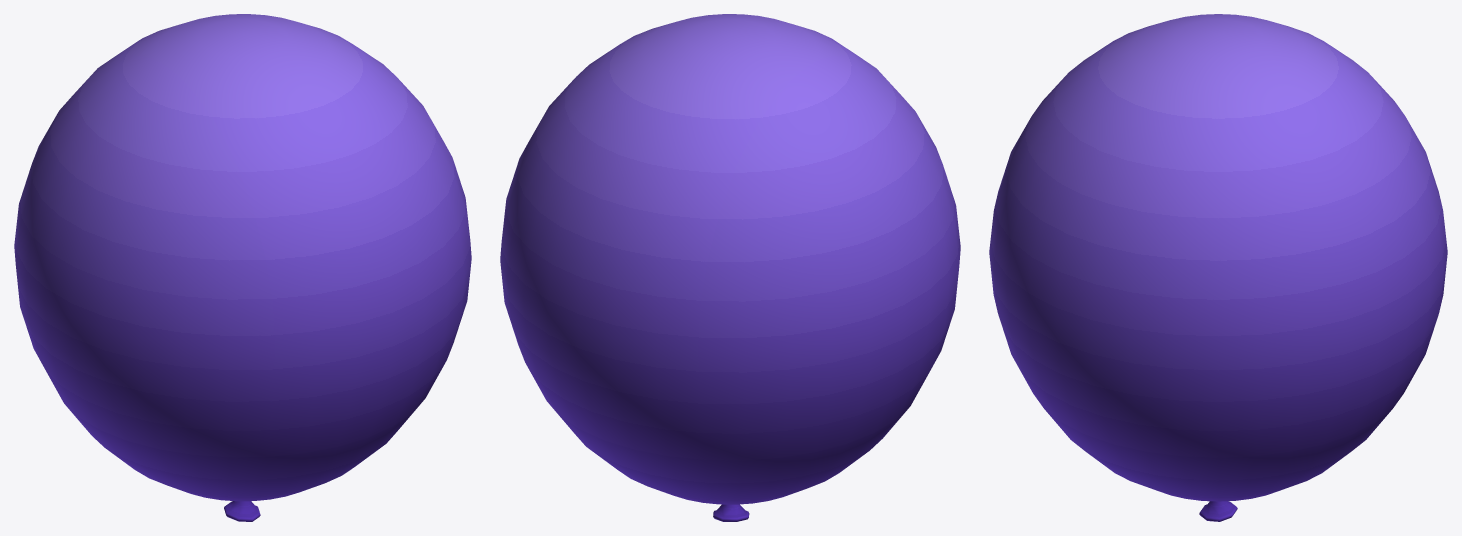
File: balloon_blue.fbx
3 views of the same model, side by side, from view 1: azimuth 30°, elevation 25°; view 2: azimuth 150°, elevation 25°; view 3: azimuth 270°, elevation 25° (orthographic).
Visible parts, largest first — view 1: balloon_blue, balloon_blue_t; view 2: balloon_blue, balloon_blue_t; view 3: balloon_blue, balloon_blue_t.
Boxes of the visible parts, bbox=[...] form: balloon_blue: bbox=[14, 14, 471, 501]; balloon_blue_t: bbox=[224, 501, 260, 521]; balloon_blue: bbox=[500, 14, 960, 504]; balloon_blue_t: bbox=[713, 504, 749, 521]; balloon_blue: bbox=[989, 14, 1447, 501]; balloon_blue_t: bbox=[1199, 501, 1237, 521].
Bounding box in the file's own units: 64.65 × 74.87 × 64.65.
